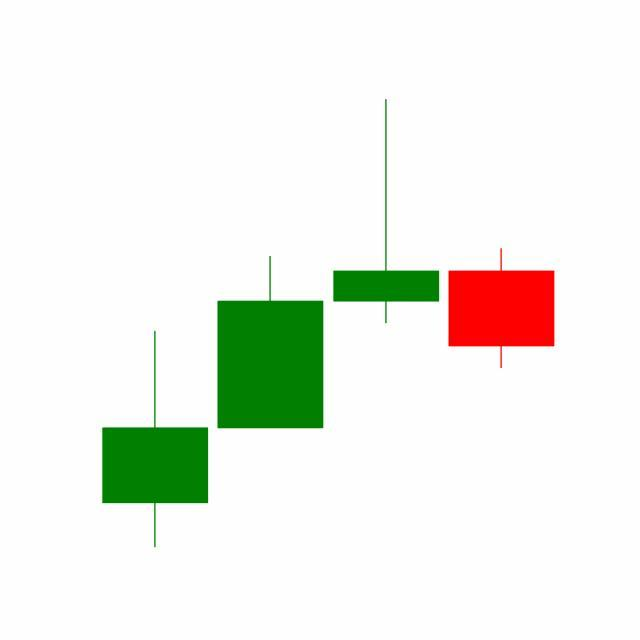Marubozu: (444, 247, 560, 370)
